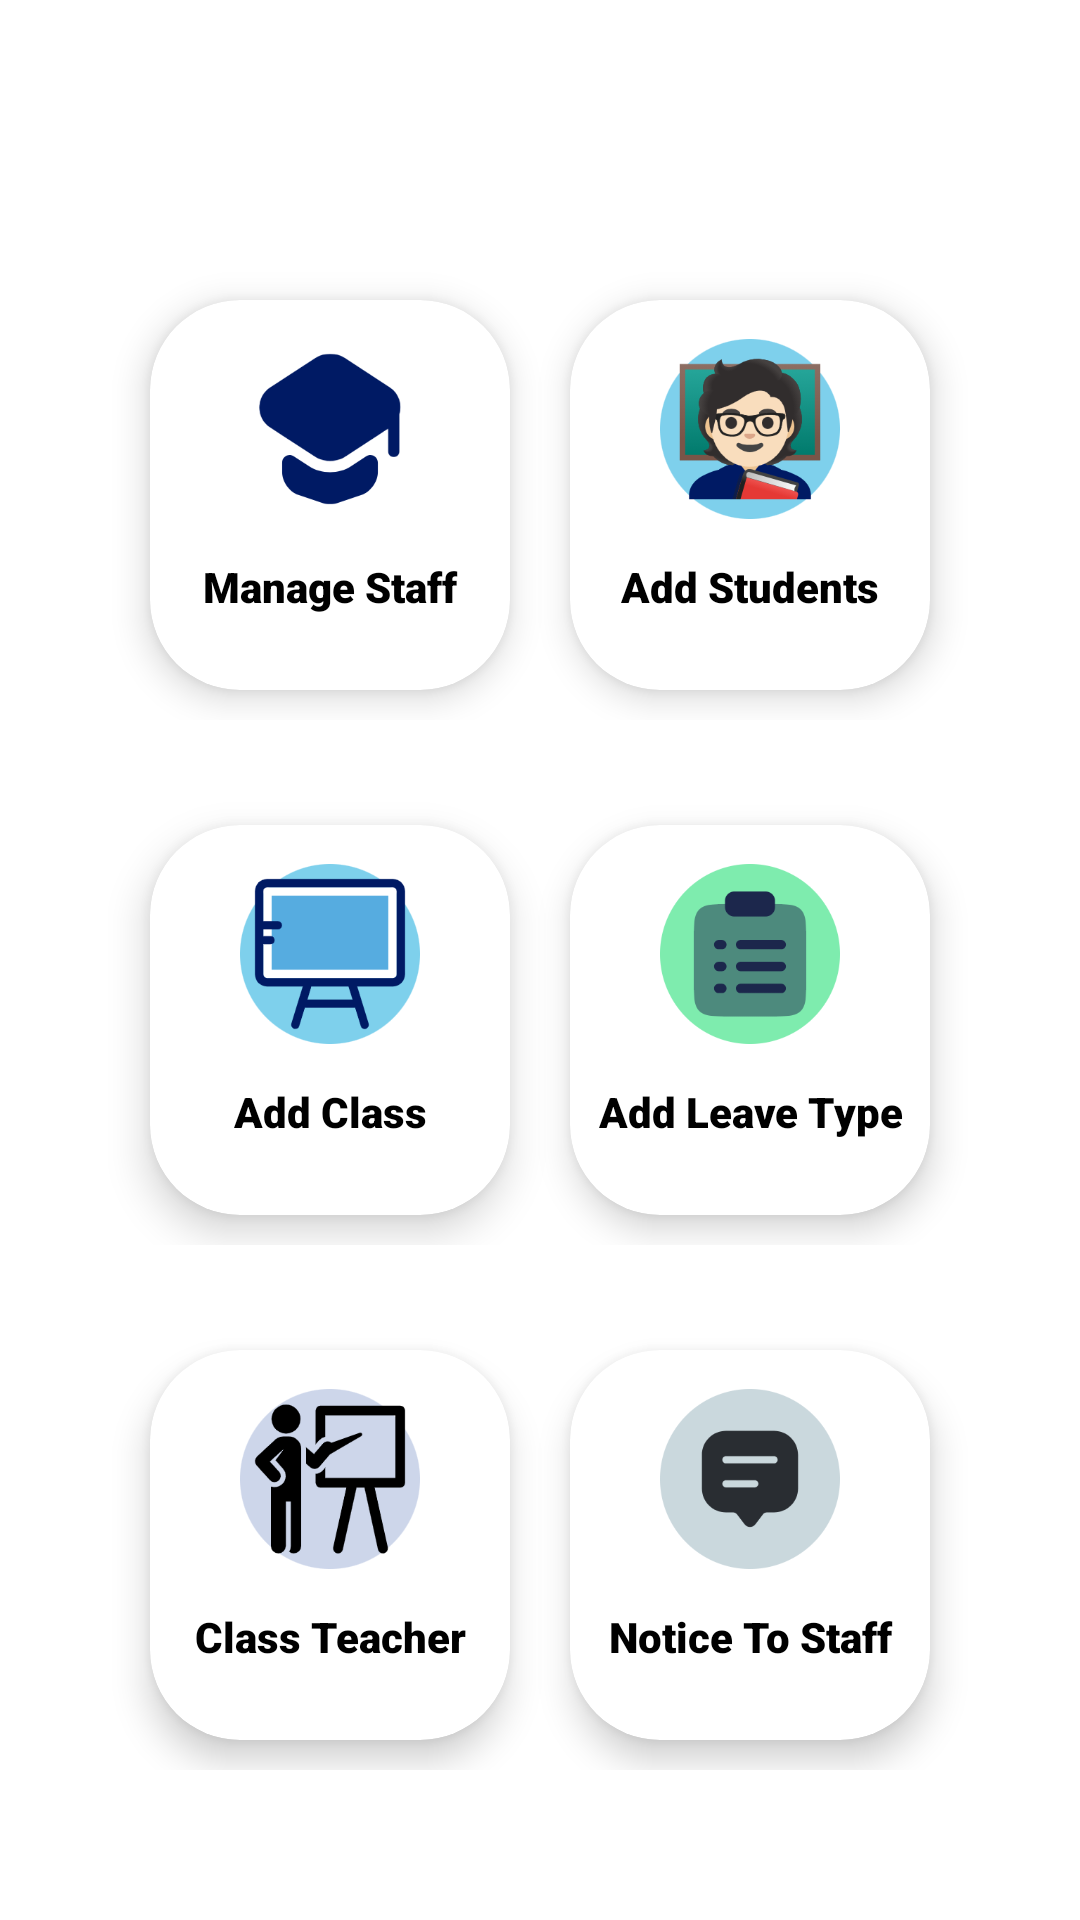

Icons on this 1080 x 1920 Android screen, each with its box as {"left": x1, "top": y1, "right": x2, "bottom": y2}:
assignstaff: {"left": 240, "top": 1389, "right": 420, "bottom": 1569}
